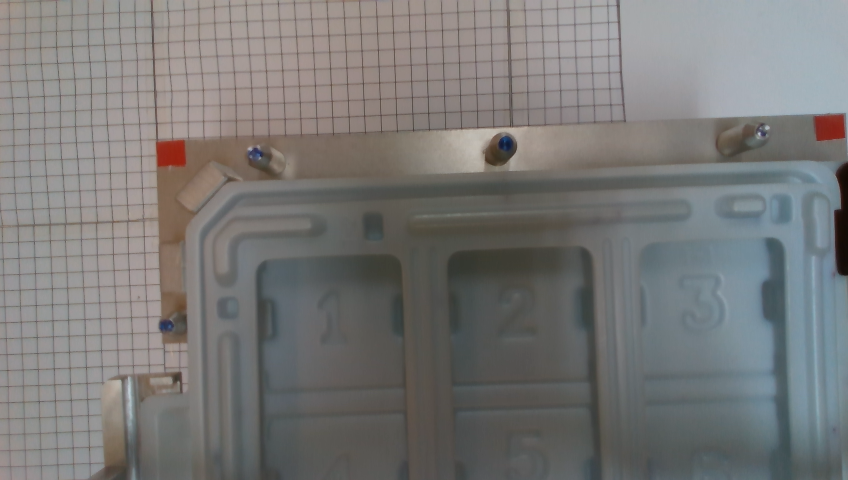red: (816, 114, 845, 141), (157, 142, 185, 166)
